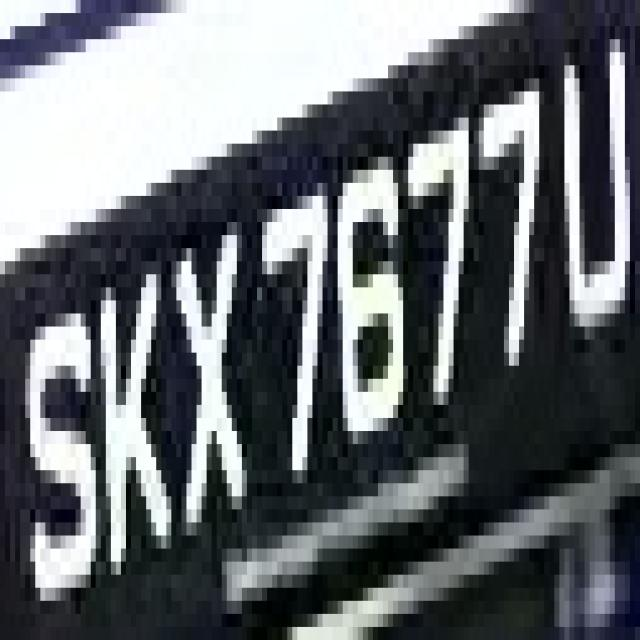6: (323, 144, 418, 457)
7: (393, 105, 484, 444), (459, 91, 549, 418), (252, 144, 333, 496)
K: (91, 196, 181, 575)
S: (25, 261, 101, 601)
U: (549, 13, 635, 353)
X: (166, 170, 247, 548)
